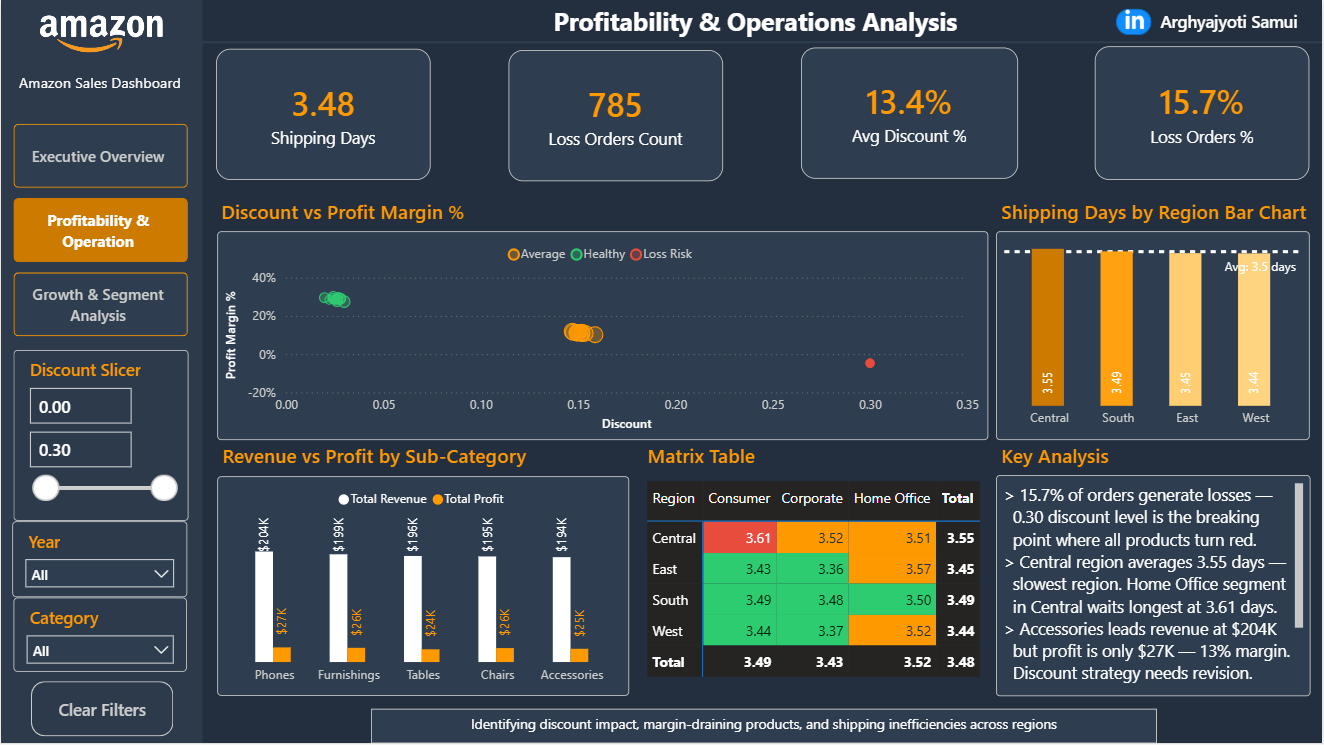

Layout of this report page (visuals, bound fields, positions):
{"tool":"powerbi","page":{"name":"Profitability & Operation","canvas":[1280,720],"ordinal":1},"visuals":[{"type":"shape","box":[0,0,195.5,720.2],"z":0},{"type":"shape","box":[1081,8.1,34.3,25.5],"z":0,"group":"g2"},{"type":"pageNavigator","box":[12.5,119.7,169.7,207.3],"z":0,"group":"g1"},{"type":"image","box":[1089.9,6.8,19.4,25.5],"z":1000,"group":"g2"},{"type":"textbox","box":[11.4,65.7,170,50],"z":1000},{"type":"image","box":[0,0,194.3,65.7],"z":2000},{"type":"textbox","box":[1113.8,5.4,153.6,32.2],"z":2000,"group":"g2"},{"type":"actionButton","box":[1081,1.4,186.4,39],"z":3000,"group":"g2"},{"type":"slicer","fields":{"Values":["orders_partitioned.order_date.Variation.Date Hierarchy.Year"]},"box":[11.1,505,169.7,73.7],"z":3000},{"type":"slicer","fields":{"Values":["orders_partitioned.category"]},"box":[12.5,578.8,168.3,72.3],"z":4000},{"type":"actionButton","box":[29.1,659.7,138,53.3],"z":5000},{"type":"shape","box":[194.8,33.4,1085.2,13.9],"z":6000},{"type":"cardVisual","fields":{"Data":["Measure Table.Shipping Days"]},"box":[208.2,47.2,208.2,127.1],"z":7000},{"type":"cardVisual","fields":{"Data":["Measure Table.Avg Discount %"]},"box":[774.7,46,210.6,127.1],"z":8000},{"type":"textbox","box":[208.2,187.6,522.9,36.3],"z":9000},{"type":"cardVisual","fields":{"Data":["Measure Table.Loss Orders %"]},"box":[1060.4,44.8,208.2,129.5],"z":10000},{"type":"clusteredColumnChart","fields":{"Category":["orders_partitioned.sub-category"],"Y":["Measure Table.Total Revenue","Measure Table.Total Profit"]},"box":[209.4,461.2,399.5,213],"z":11000},{"type":"textbox","box":[209.5,424.1,399.3,37],"z":12000},{"type":"textbox","box":[964.8,423.7,303.8,36.3],"z":13000},{"type":"cardVisual","fields":{"Data":["Measure Table.Loss Orders Count"]},"box":[491.5,48.4,208.2,127.1],"z":14000},{"type":"textbox","box":[621.2,424.1,325.2,37],"z":15000},{"type":"textbox","box":[964.8,460,305,214.3],"z":16000},{"type":"textbox","box":[358.3,686.4,761.4,33.9],"z":17000},{"type":"textbox","box":[380.9,0,701.3,46.7],"z":18000},{"type":"textbox","box":[964.8,187.6,314.7,36.3],"z":19000},{"type":"clusteredColumnChart","fields":{"Category":["orders_partitioned.region"],"Y":["Measure Table.Shipping Days"]},"box":[964.8,223.9,303.8,202.2],"z":20000},{"type":"slicer","fields":{"Values":["orders_partitioned.discount"]},"box":[12.5,339.5,169.7,165.6],"z":21000},{"type":"scatterChart","fields":{"X":["Avg(orders_partitioned.discount)"],"Category":["orders_partitioned.sub-category"],"Y":["Measure Table.Profit Margin %"],"Series":["orders_partitioned.Product Performance"],"Size":["Measure Table.Total Revenue"]},"box":[209.4,223.9,746.9,202.2],"z":22000},{"type":"pivotTable","fields":{"Rows":["orders_partitioned.region"],"Columns":["orders_partitioned.segment"],"Values":["Measure Table.Shipping Days"]},"box":[621,461.2,334.1,213],"z":23000},{"type":"group","id":"g1","title":"Page Navigators","box":[12.5,119.7,169.7,207.3],"z":25000},{"type":"group","id":"g2","title":"Signeture","box":[1081,1.4,186.4,39],"z":27000}]}

Visuals, with their boxes in screenshot pixels (x1, y1, x2, y2), scaled from the page's 1280x720 canvas onto the 1324x745 screenshot:
shape: 0, 0, 202, 744
shape: 1118, 8, 1154, 35
pageNavigator: 13, 124, 188, 338
image: 1127, 7, 1147, 33
textbox: 12, 68, 188, 120
image: 0, 0, 201, 68
textbox: 1152, 6, 1311, 39
actionButton: 1118, 1, 1311, 42
slicer - orders_partitioned.order_date.Variation.Date Hierarchy.Year: 11, 523, 187, 599
slicer - orders_partitioned.category: 13, 599, 187, 674
actionButton: 30, 683, 173, 738
shape: 201, 35, 1323, 49
cardVisual - Measure Table.Shipping Days: 215, 49, 431, 180
cardVisual - Measure Table.Avg Discount %: 801, 48, 1019, 179
textbox: 215, 194, 756, 232
cardVisual - Measure Table.Loss Orders %: 1097, 46, 1312, 180
clusteredColumnChart - orders_partitioned.sub-category x Measure Table.Total Revenue: 217, 477, 630, 698
textbox: 217, 439, 630, 477
textbox: 998, 438, 1312, 476
cardVisual - Measure Table.Loss Orders Count: 508, 50, 724, 182
textbox: 643, 439, 979, 477
textbox: 998, 476, 1313, 698
textbox: 371, 710, 1158, 744
textbox: 394, 0, 1119, 48
textbox: 998, 194, 1323, 232
clusteredColumnChart - orders_partitioned.region x Measure Table.Shipping Days: 998, 232, 1312, 441
slicer - orders_partitioned.discount: 13, 351, 188, 523
scatterChart - Avg(orders_partitioned.discount) x orders_partitioned.sub-category: 217, 232, 989, 441
pivotTable - orders_partitioned.region x orders_partitioned.segment: 642, 477, 988, 698
"Page Navigators" group: 13, 124, 188, 338
"Signeture" group: 1118, 1, 1311, 42
